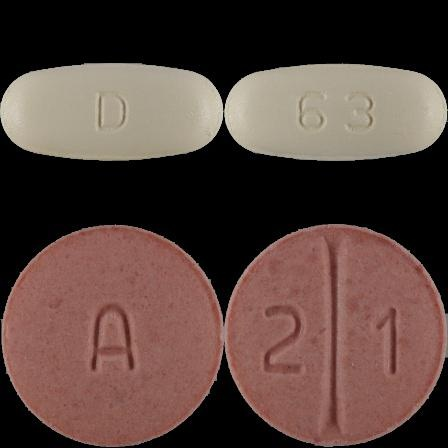57237-045: (0, 0, 224, 224)
